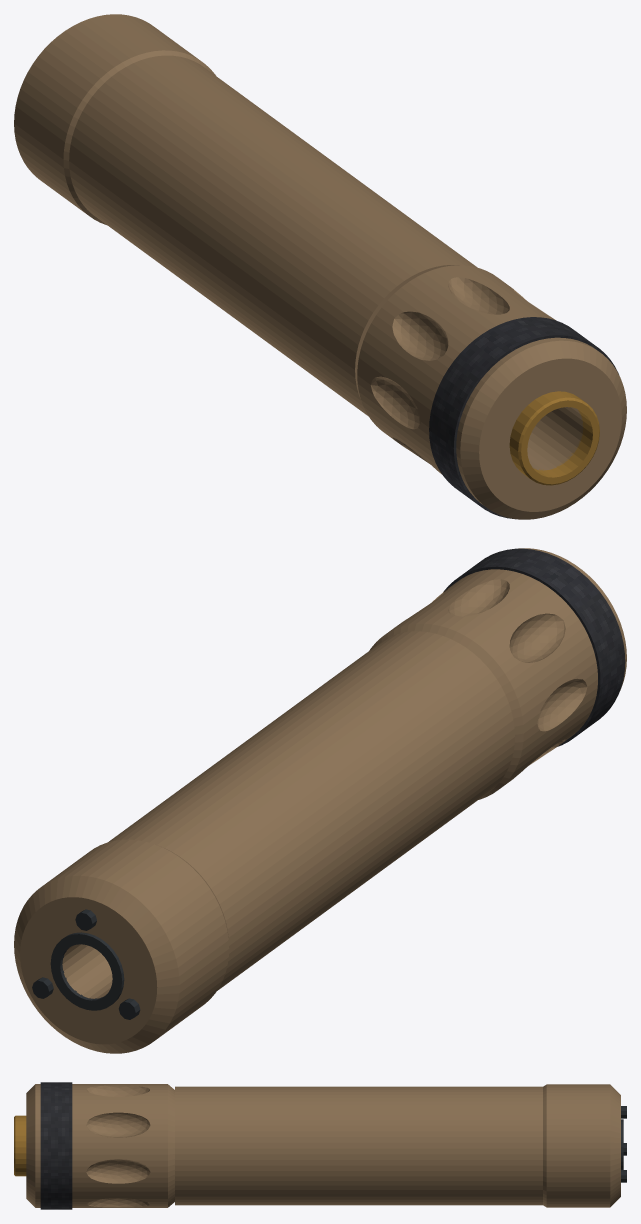
Rendered from supressor_9mm_tan.glb.
The picture shows the model from 3 angles, top to bottom: view 1: azimuth 30°, elevation 25°; view 2: azimuth 150°, elevation 25°; view 3: azimuth 270°, elevation 25°; orthographic projection. The views are drawn at different scales.
Parts seen in each view (by area): view 1: supressor_9mm_tan_cerakote_areia, supressor_9mm_tan_recartilhado, supressor_9mm_tan_latao; view 2: supressor_9mm_tan_cerakote_areia, supressor_9mm_tan_recartilhado, supressor_9mm_tan_aco_cano, supressor_9mm_tan_aco_oxidado; view 3: supressor_9mm_tan_cerakote_areia, supressor_9mm_tan_recartilhado, supressor_9mm_tan_latao, supressor_9mm_tan_aco_oxidado.
Part boxes in pixels (<box>): supressor_9mm_tan_cerakote_areia: <box>14,14,626,519</box>; supressor_9mm_tan_recartilhado: <box>429,317,618,519</box>; supressor_9mm_tan_latao: <box>509,391,599,485</box>; supressor_9mm_tan_cerakote_areia: <box>14,548,626,1053</box>; supressor_9mm_tan_recartilhado: <box>443,548,625,746</box>; supressor_9mm_tan_aco_cano: <box>50,932,124,1010</box>; supressor_9mm_tan_aco_oxidado: <box>32,909,140,1019</box>; supressor_9mm_tan_cerakote_areia: <box>26,1084,620,1207</box>; supressor_9mm_tan_recartilhado: <box>40,1082,72,1209</box>; supressor_9mm_tan_latao: <box>14,1115,26,1176</box>; supressor_9mm_tan_aco_oxidado: <box>621,1106,626,1182</box>.
Size of the model in its own units: 0.036 by 0.036 by 0.1732.
5 materials, 1 textured.
